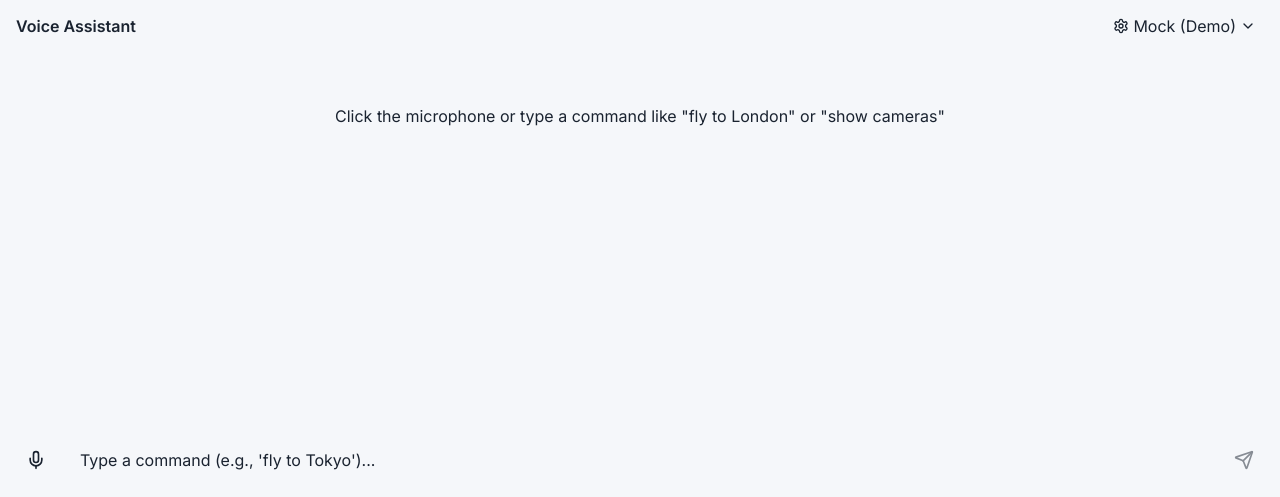
Test case: VoicePanel › shows error when sendCommand fails
Expected: the text "Mock (Demo)" is shown, [1133,16,1236,36]
Type "fly to London" into the field named "Voice command input" at (640, 460), box [64,442,1216,478]
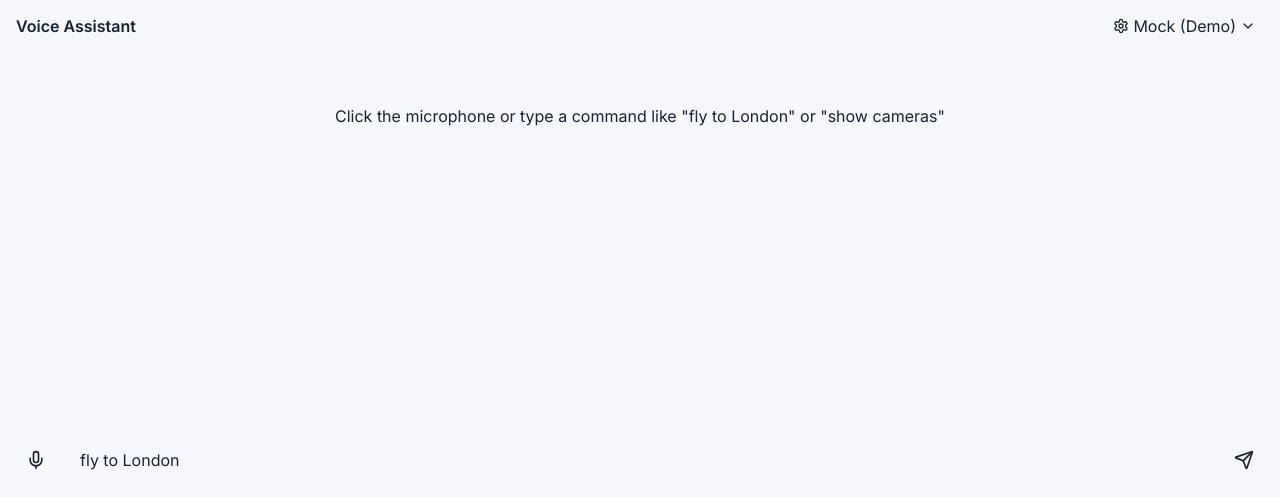
Click the button named "Send command" at (1244, 460), box [1224,440,1264,480]
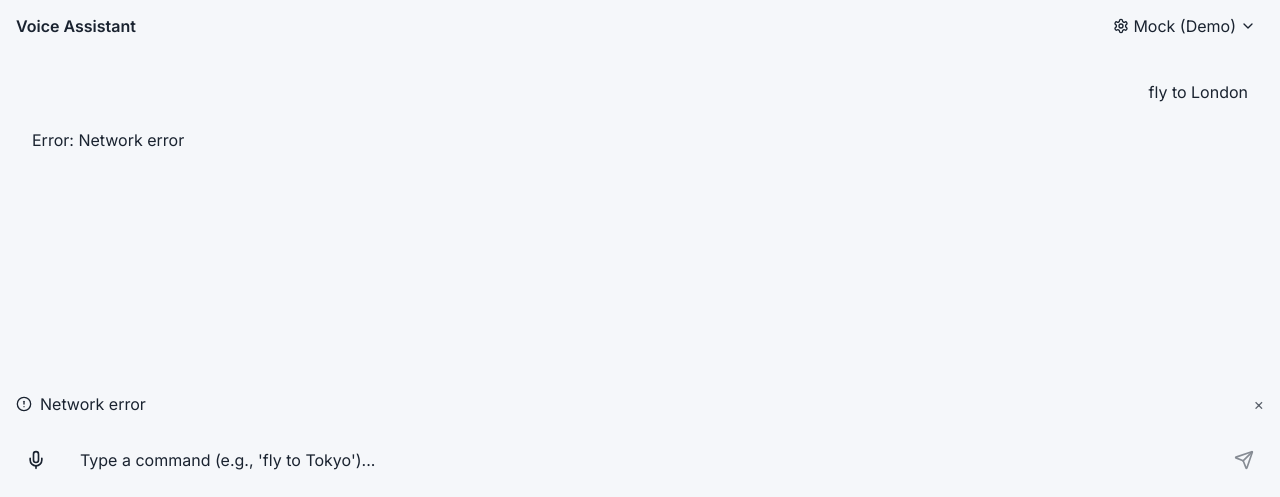
Now the text "Error: Network error" is shown, box [32,128,184,152]
